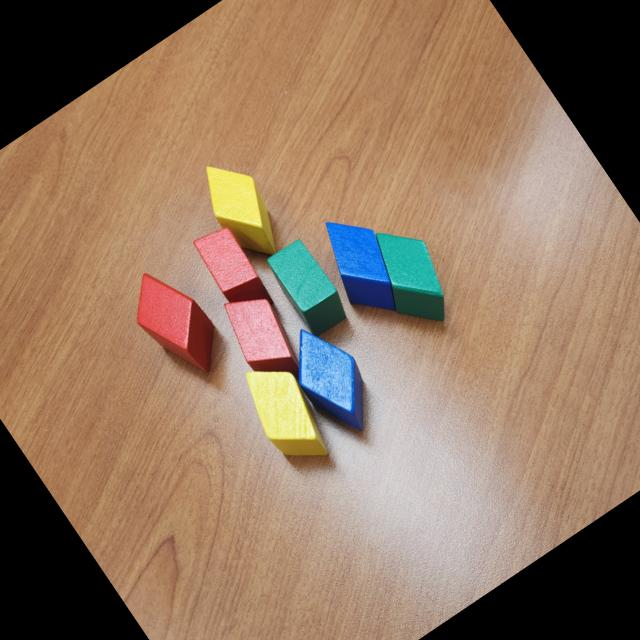blue: (276, 315, 392, 447), (306, 202, 418, 328)
green: (349, 211, 468, 342), (262, 234, 354, 340)
red: (118, 257, 235, 389), (211, 280, 317, 402), (189, 220, 280, 326)
yellow: (230, 349, 342, 476), (190, 148, 294, 268)
